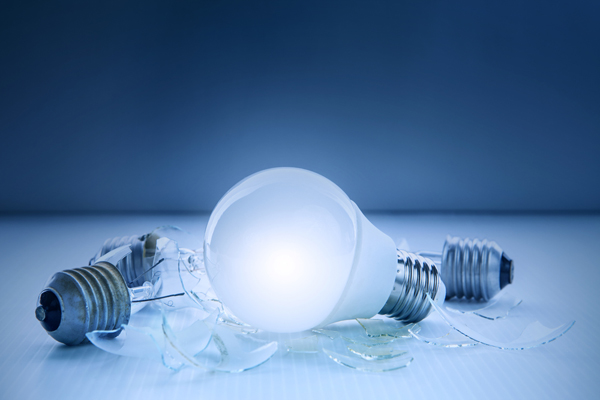Light_bulb: (199, 162, 451, 341)
